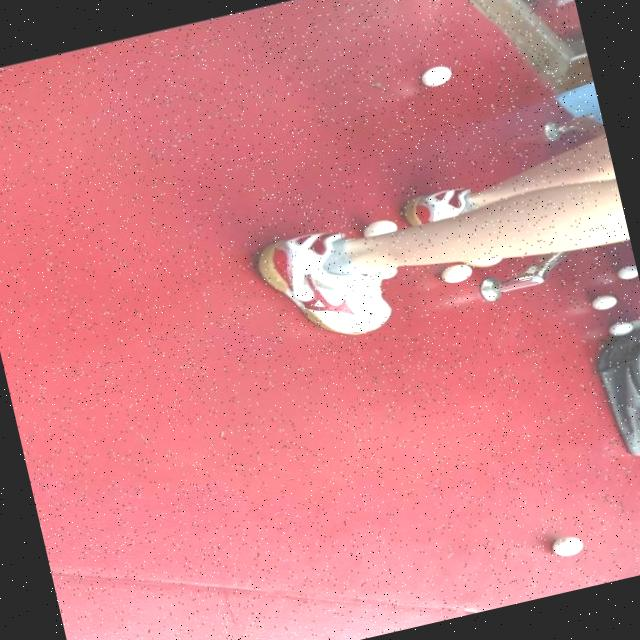ping-pong-ball: (358, 212, 400, 240), (414, 60, 456, 88), (434, 258, 474, 286), (546, 529, 584, 558), (588, 289, 620, 311), (604, 316, 636, 336), (613, 260, 638, 282)
